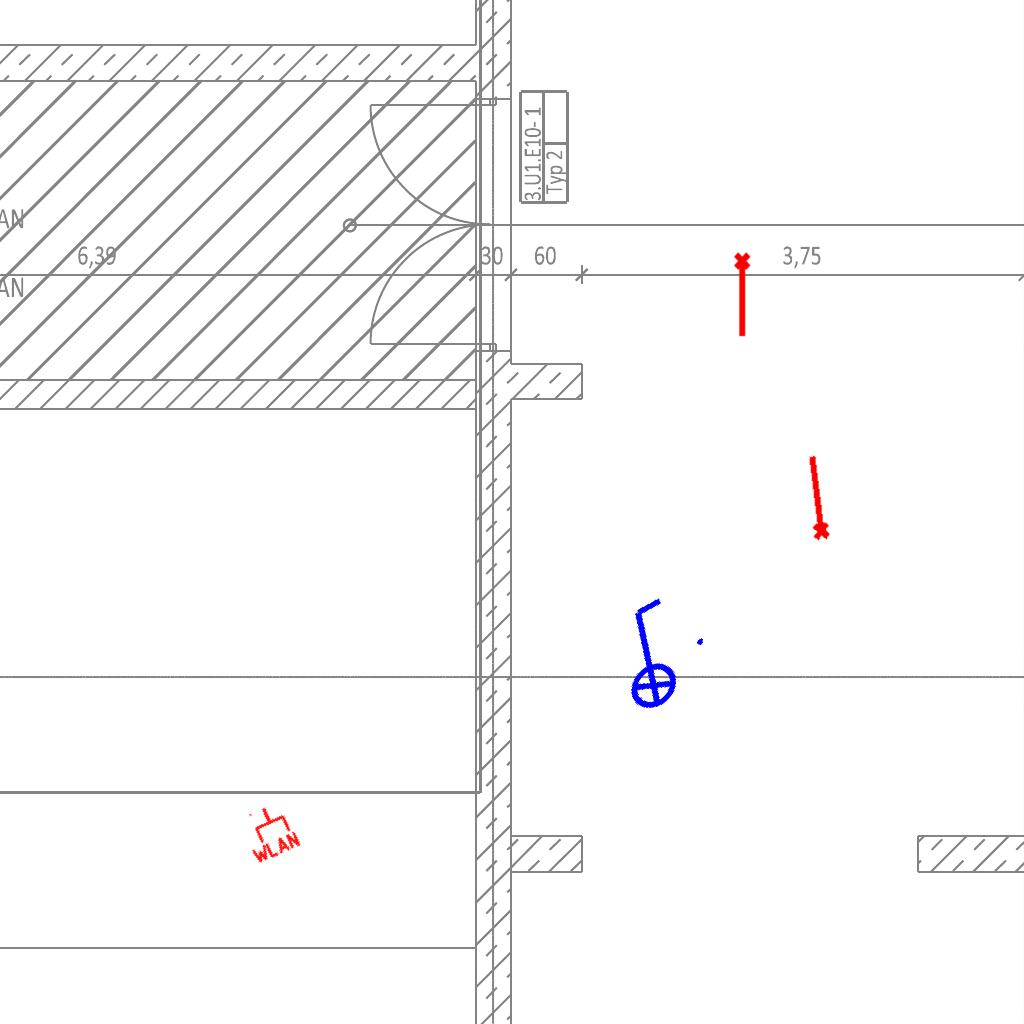ASR_Ansaugoeffnung: (799, 452, 833, 543), (732, 251, 755, 339)
Ausschalter_beleuchtet: (574, 581, 722, 729)
WLAN: (234, 797, 304, 867)
